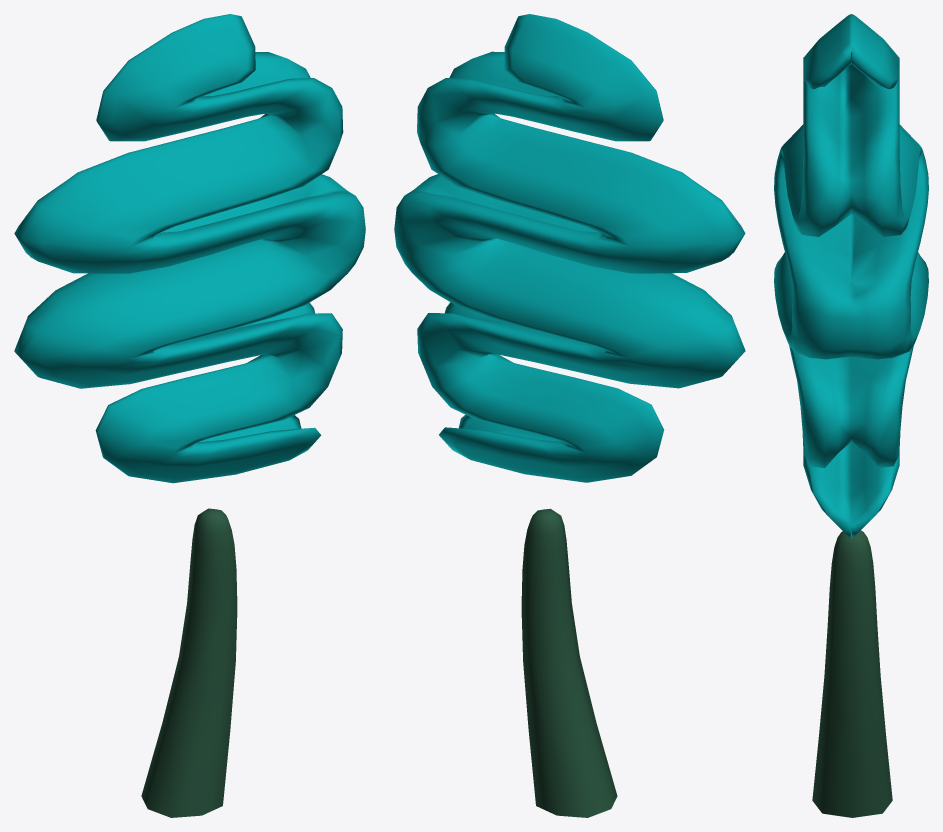
The model's file is tree-floating-1.glb.
3 renders of one model, left to right at view 1: azimuth 30°, elevation 25°; view 2: azimuth 150°, elevation 25°; view 3: azimuth 270°, elevation 25°, orthographic.
Parts seen in each view (by area): view 1: Tree_Floating_1; view 2: Tree_Floating_1; view 3: Tree_Floating_1.
Part boxes in pixels (x1,y1,x2,y2): Tree_Floating_1: (14,14,365,817); Tree_Floating_1: (394,14,745,817); Tree_Floating_1: (774,14,928,817).
Bounding box in the file's own units: 2.09 × 4.61 × 0.8259.
1 material, 1 textured.
